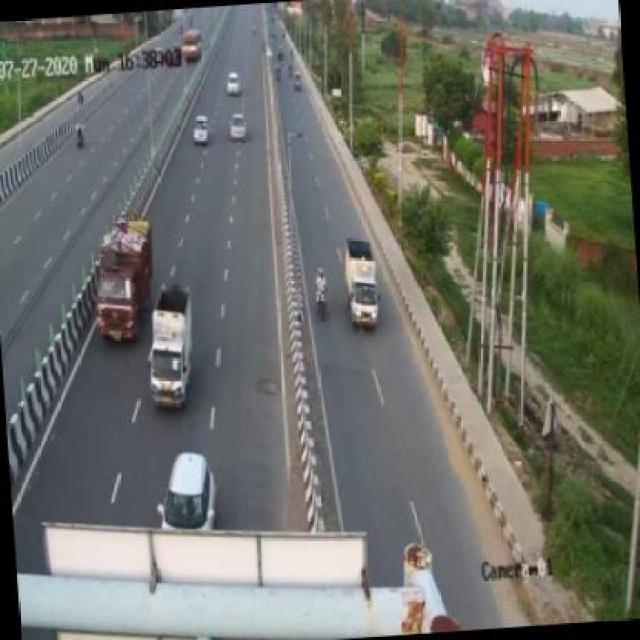car: (143, 277, 205, 414), (152, 444, 231, 530), (342, 229, 388, 340), (192, 112, 215, 150), (230, 112, 252, 146), (225, 66, 243, 100)
